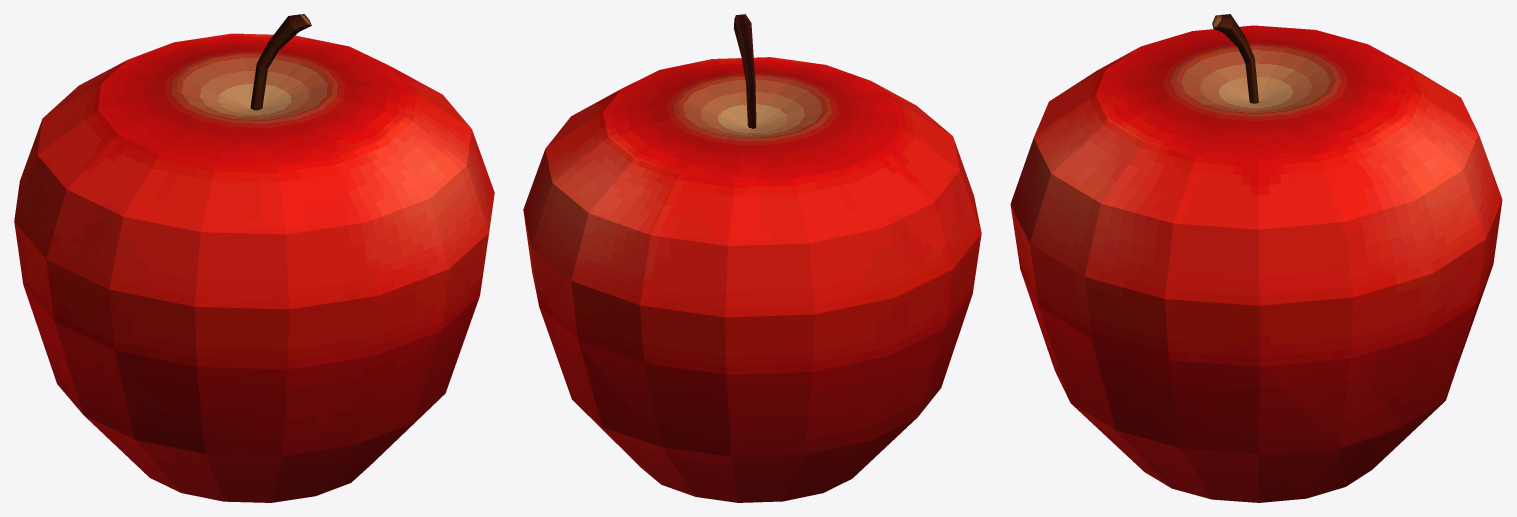
Rendered from Apple.obj.
3 renders of one model, left to right at view 1: azimuth 30°, elevation 25°; view 2: azimuth 150°, elevation 25°; view 3: azimuth 270°, elevation 25°, orthographic. The views are drawn at different scales.
Parts seen in each view (by area): view 1: Inst3D25_RefRep.217; view 2: Inst3D25_RefRep.217; view 3: Inst3D25_RefRep.217.
Boxes of the visible parts, <box> form: Inst3D25_RefRep.217: <box>14,14,494,502</box>; Inst3D25_RefRep.217: <box>523,14,981,502</box>; Inst3D25_RefRep.217: <box>1010,14,1502,502</box>.
Size of the model in its own units: 2.86 by 2.98 by 2.86.
Materials: 1 (1 with a texture image).
